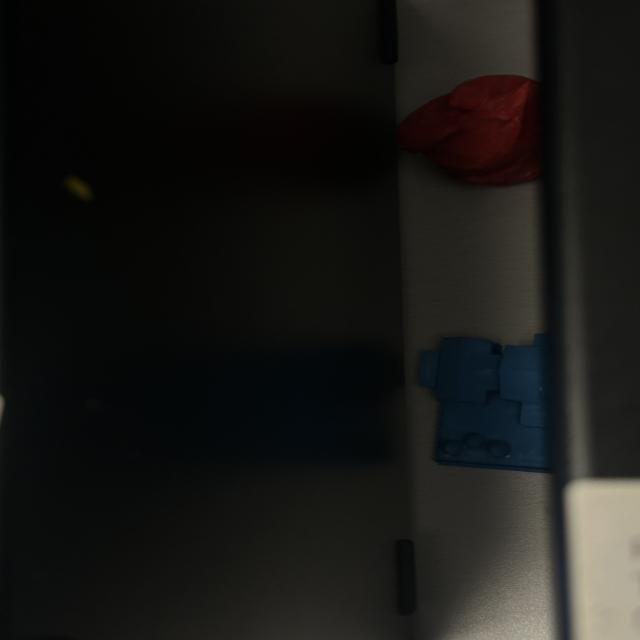fire: (394, 70, 546, 187)
house: (412, 327, 558, 475)
